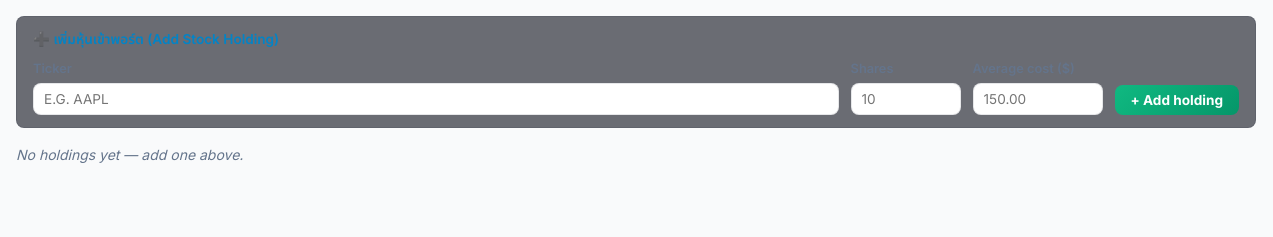
Test: PortfolioHoldings › shows an inline error banner on a failed create
Expected: the text "No holdings yet — add one above." is shown, [16,146,243,163]
In the field labelled "Ticker": (436, 99) [33,83,839,115], type "AAPL"
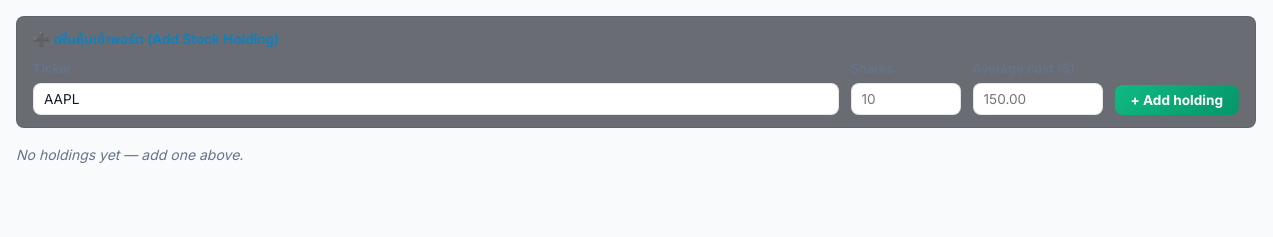
In the number field labelled "Shares": (906, 99) [851,83,961,115], type "12"
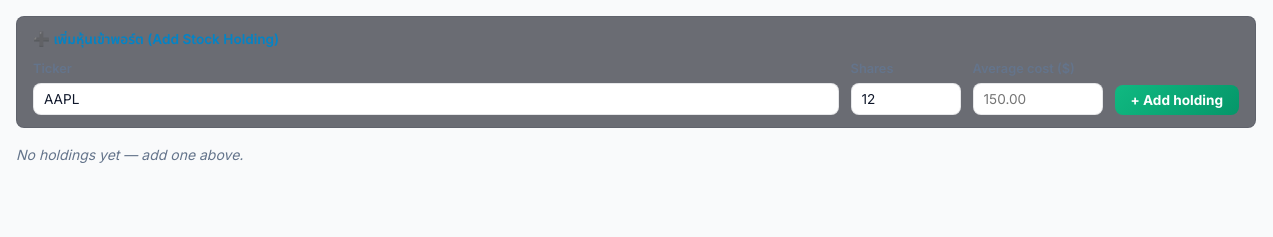
In the number field labelled "Average cost ($)": (1038, 99) [973,83,1103,115], type "187.4"
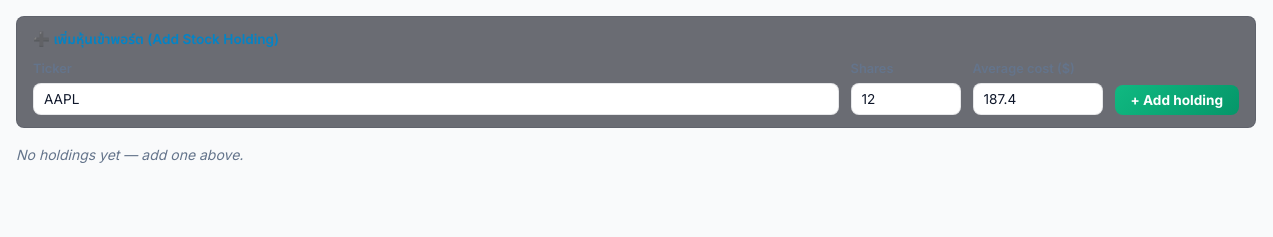
Click the button "+ Add holding": (1177, 100) [1115,85,1239,115]
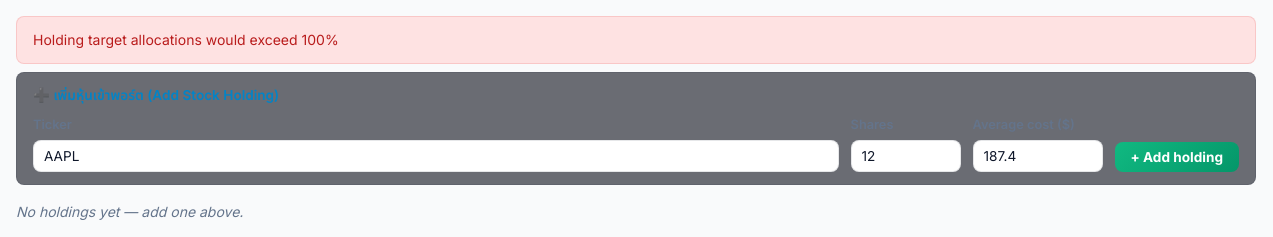
Expected: the message reads "Holding target allocations would exceed 100%", [33,31,339,48]
